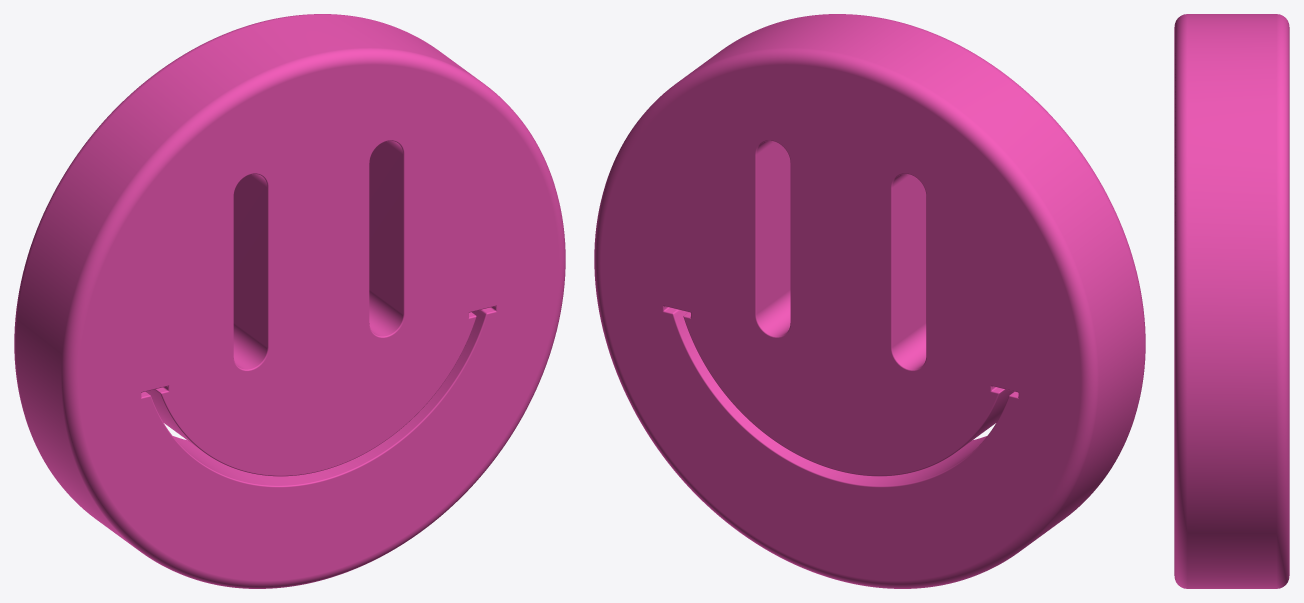
The model's file is smiley.glb.
The picture shows the model from 3 angles, left to right: view 1: azimuth 30°, elevation 25°; view 2: azimuth 150°, elevation 25°; view 3: azimuth 270°, elevation 25°; orthographic projection.
Parts seen in each view (by area): view 1: Smiley; view 2: Smiley; view 3: Smiley.
Part boxes in pixels (<box>): Smiley: <box>14,14,565,588</box>; Smiley: <box>594,14,1145,588</box>; Smiley: <box>1174,14,1289,588</box>.
Size of the model in its own units: 2 by 2 by 0.4.
